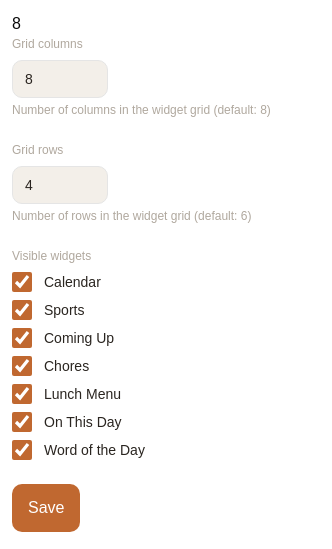
GridSettingsPanel › refreshes the shared config once for a three-key save, and not per key
Replace the text in the number field showing "8" below "Grid columns" with "12" at coordinates (60, 79), box [12, 60, 108, 98]
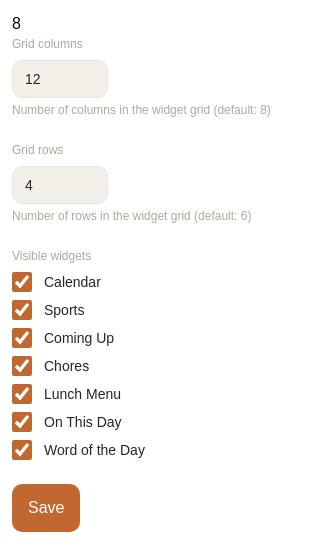
Click the button "Save" at coordinates (46, 508), box [12, 484, 80, 532]
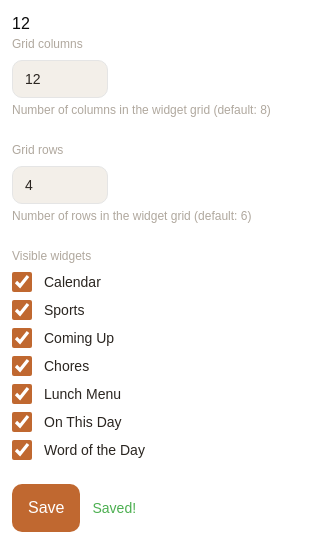
Check: the text with test id "probe" reads "12", box [12, 15, 30, 32]
Check: the text "Saved!" is shown, box [92, 498, 136, 518]
